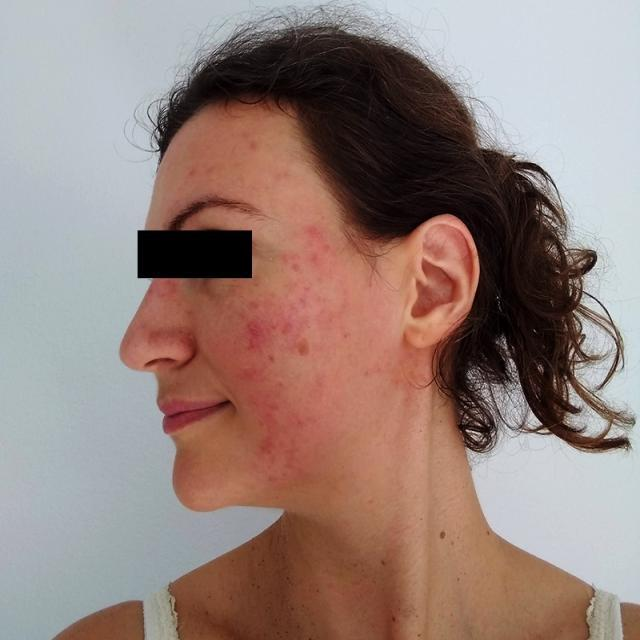Rosacea: (239, 227, 352, 481)
